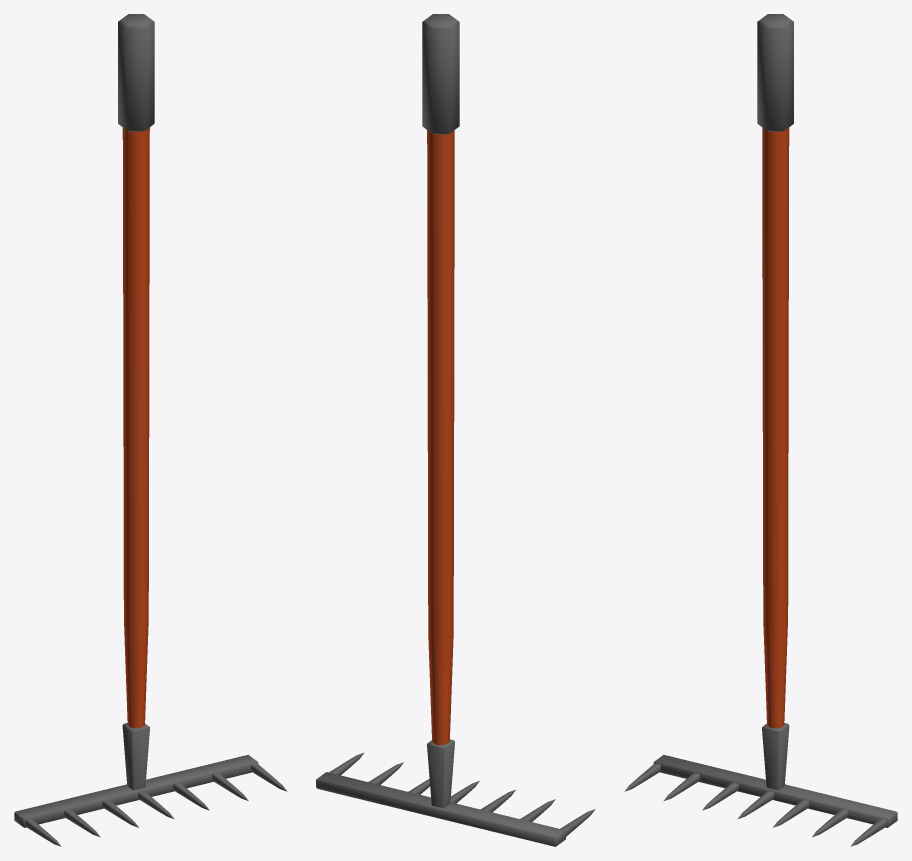
Rendered from SM_rake_001.obj.
3 views of the same model, side by side, from view 1: azimuth 30°, elevation 25°; view 2: azimuth 150°, elevation 25°; view 3: azimuth 330°, elevation 25° (orthographic). The views are drawn at different scales.
Parts seen in each view (by area): view 1: SM_rake_001_M_Material; view 2: SM_rake_001_M_Material; view 3: SM_rake_001_M_Material.
Part boxes in pixels (x1,y1,x2,y2): SM_rake_001_M_Material: (14, 14, 287, 846); SM_rake_001_M_Material: (316, 14, 595, 846); SM_rake_001_M_Material: (624, 14, 897, 846).
Bounding box in the file's own units: 0.4507 × 1.42 × 0.1578.
